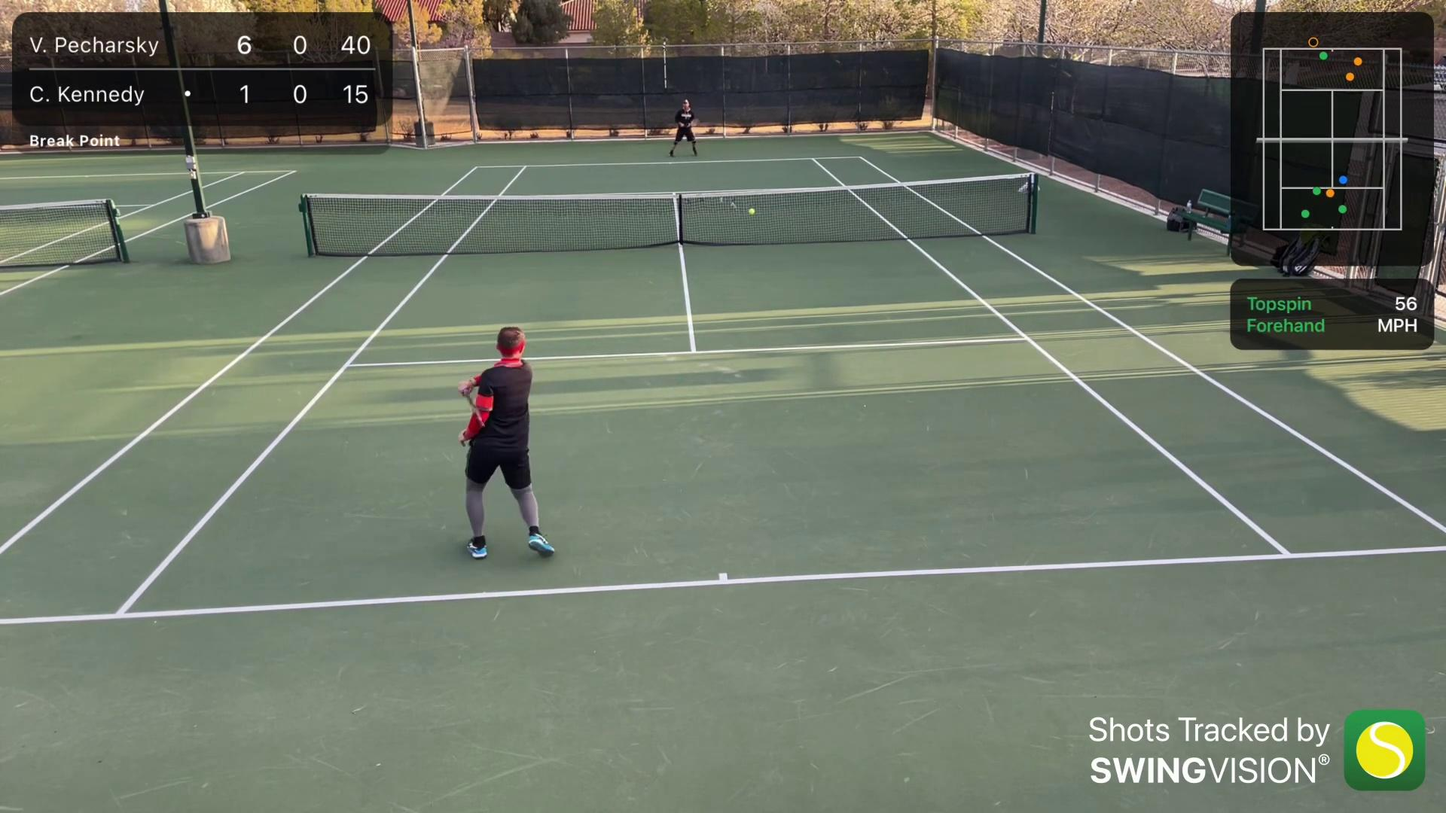ball: (747, 208, 756, 215), (331, 281, 337, 286)
